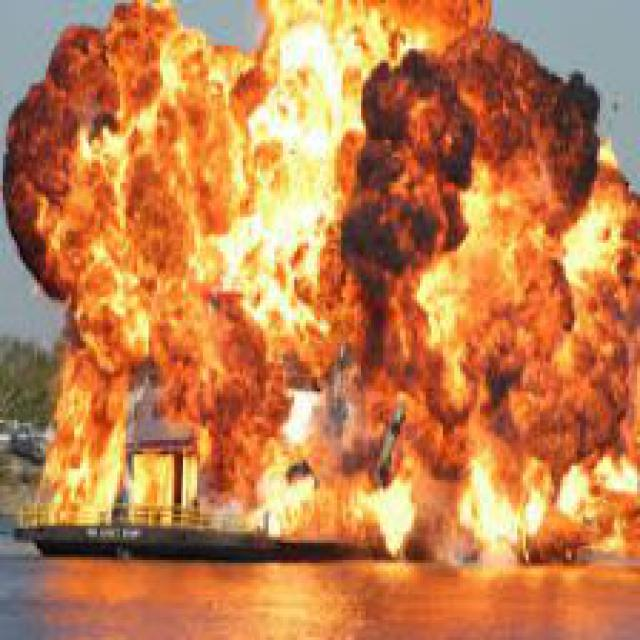fire: (3, 3, 637, 571)
